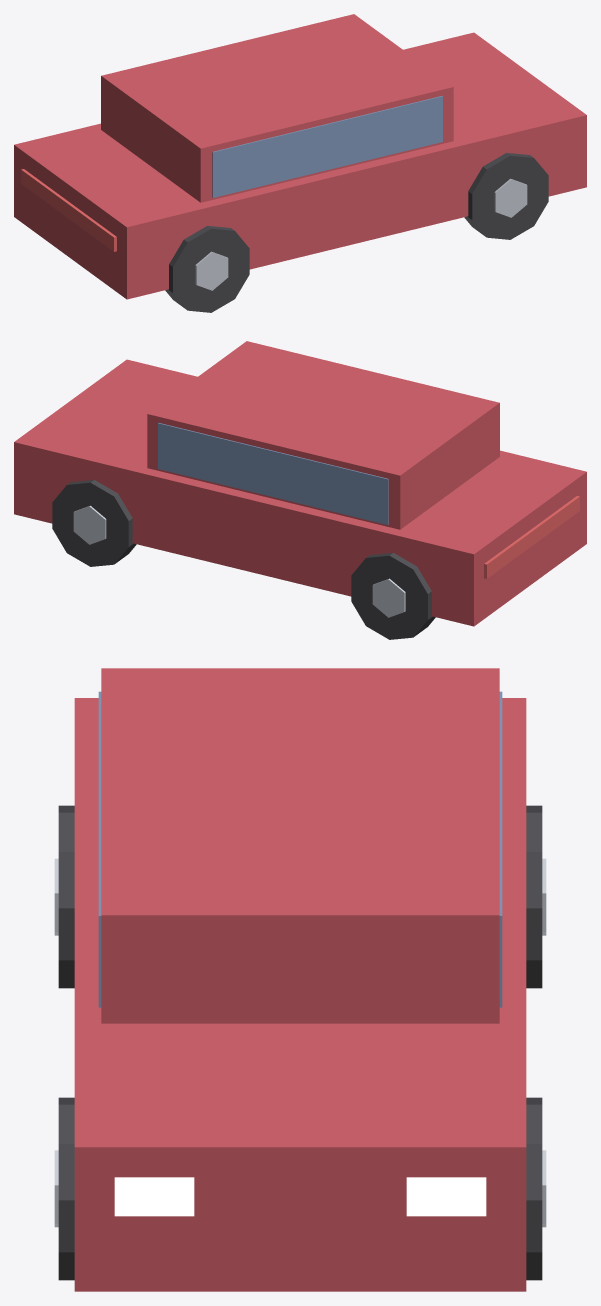
The model's file is Car_Red.fbx.
3 renders of one model, top to bottom at view 1: azimuth 30°, elevation 25°; view 2: azimuth 150°, elevation 25°; view 3: azimuth 270°, elevation 25°, orthographic. The views are drawn at different scales.
Visible parts, largest first — view 1: Car_Red; view 2: Car_Red; view 3: Car_Red.
Boxes of the visible parts, x1=… form: Car_Red: x1=14, y1=14, x2=586, y2=312; Car_Red: x1=14, y1=341, x2=586, y2=639; Car_Red: x1=54, y1=668, x2=546, y2=1291.
Bounding box in the file's own units: 4.05 × 1.3 × 1.85.
